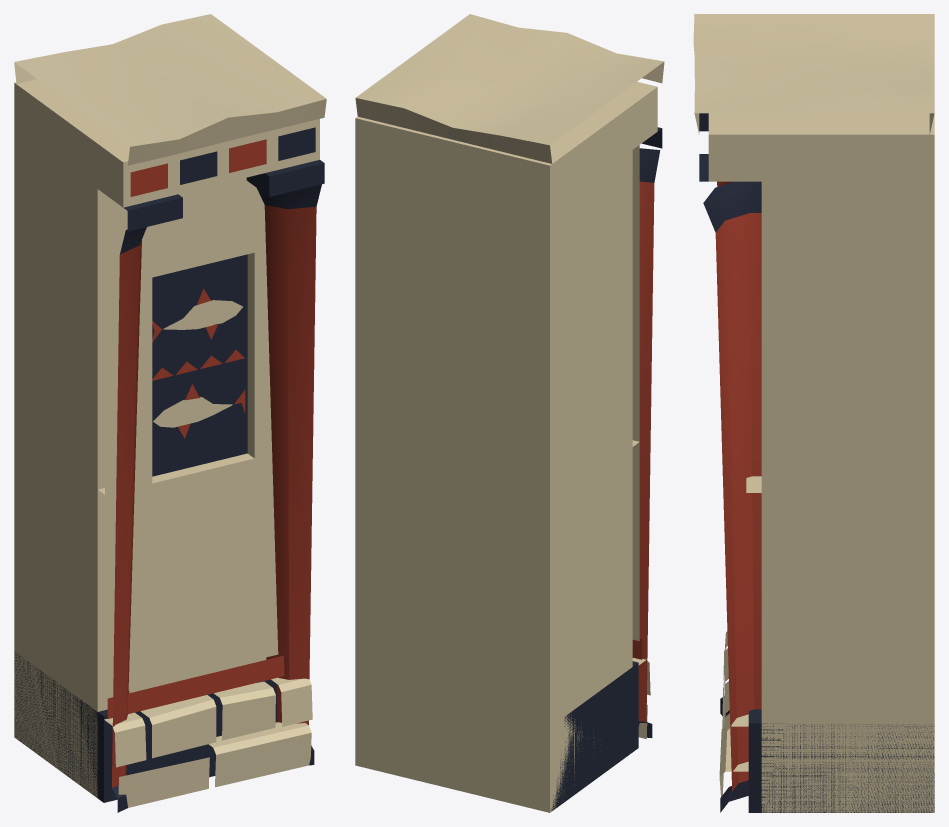
Rendered from gallery-straight.glb.
The picture shows the model from 3 angles, left to right: view 1: azimuth 30°, elevation 25°; view 2: azimuth 150°, elevation 25°; view 3: azimuth 270°, elevation 25°; orthographic projection. The views are drawn at different scales.
Parts seen in each view (by area): view 1: gallery-straight; view 2: gallery-straight; view 3: gallery-straight.
Boxes of the visible parts, x1,y1,x2,y2 form: gallery-straight: (14,14,326,812); gallery-straight: (355,14,664,812); gallery-straight: (693,14,934,812).
Bounding box in the file's own units: 1 × 3.3 × 1.02.
